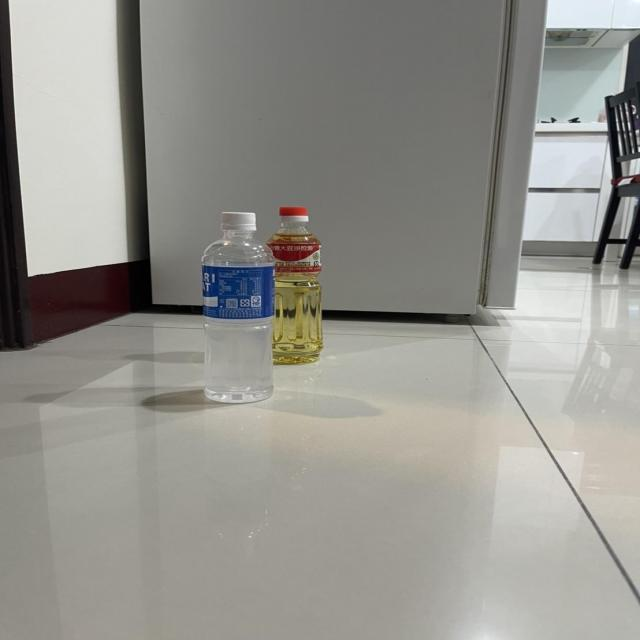bottle: (195, 202, 286, 405)
